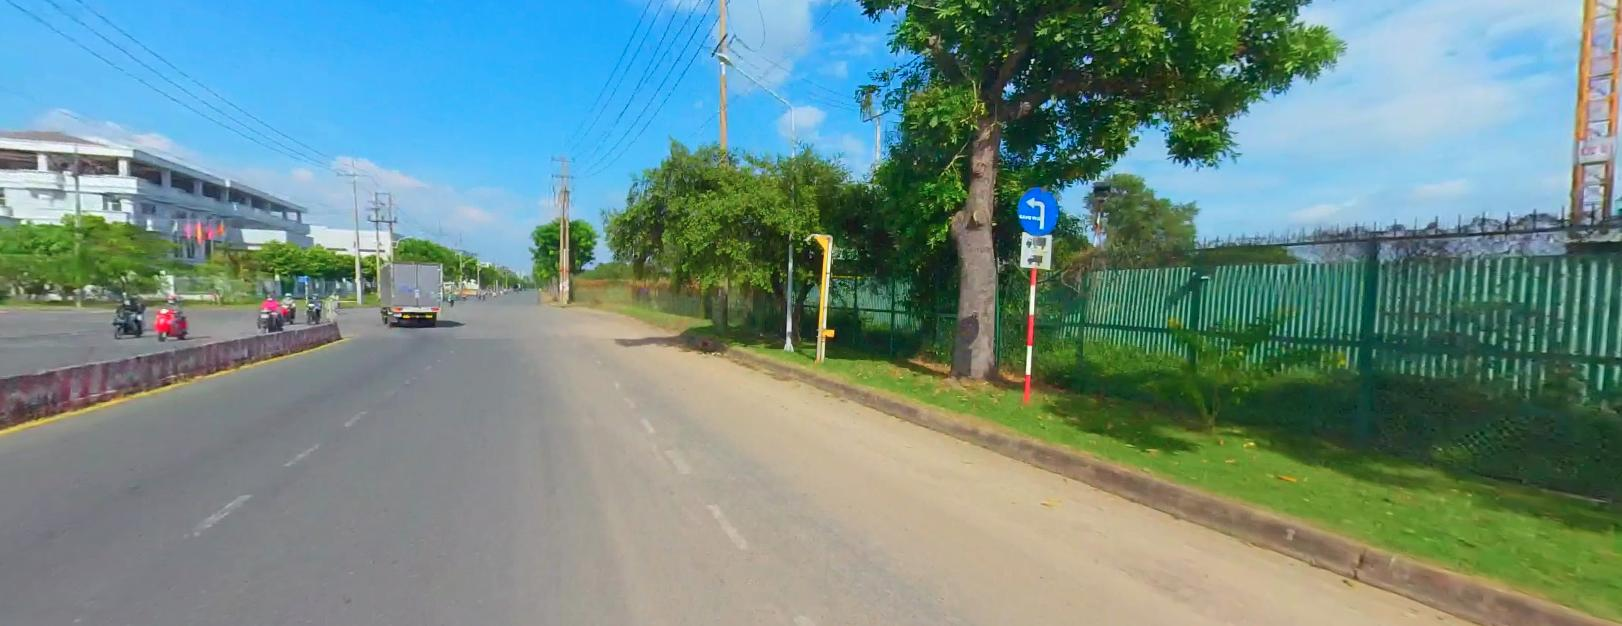Hieu lenh: (1016, 185, 1057, 233)
